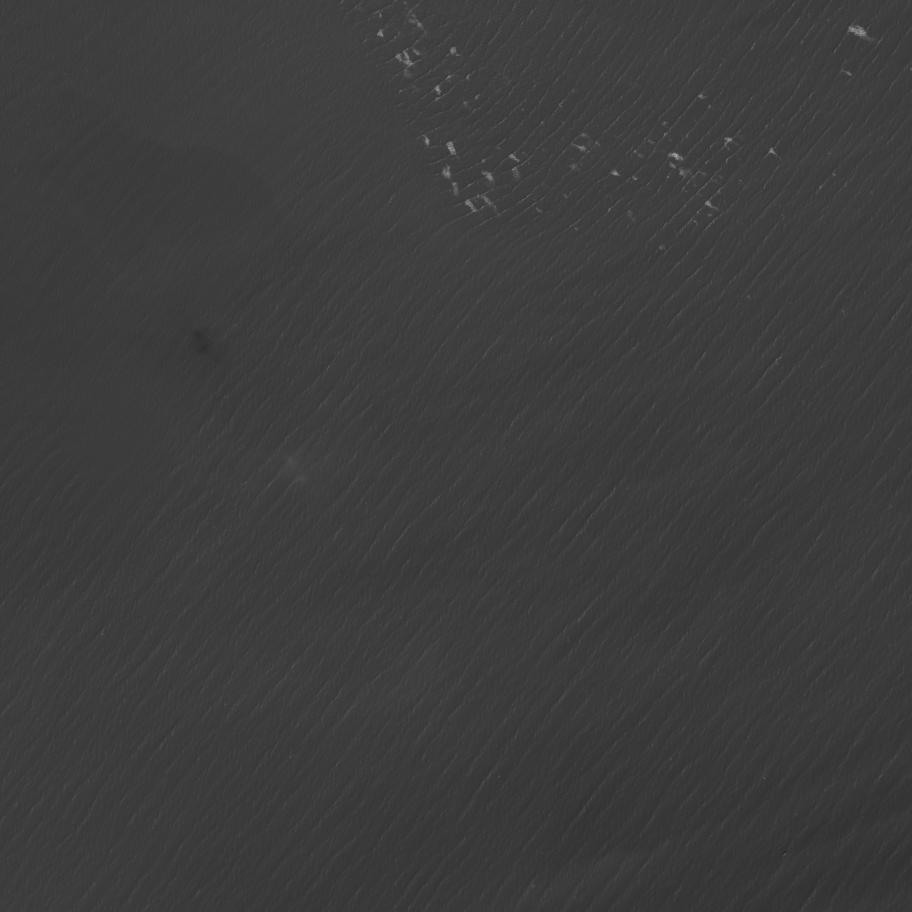ship: (782, 851, 788, 857)
